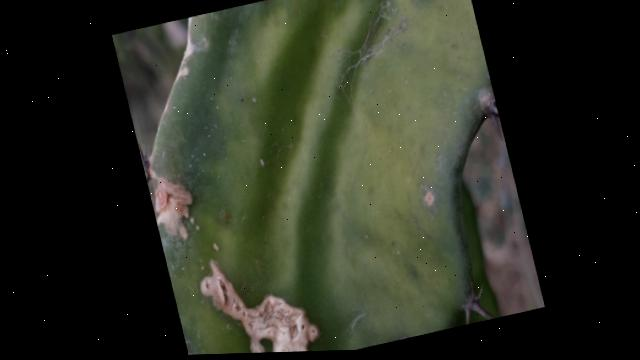stemcanker: (418, 181, 441, 215), (216, 201, 238, 230), (203, 237, 226, 257)
